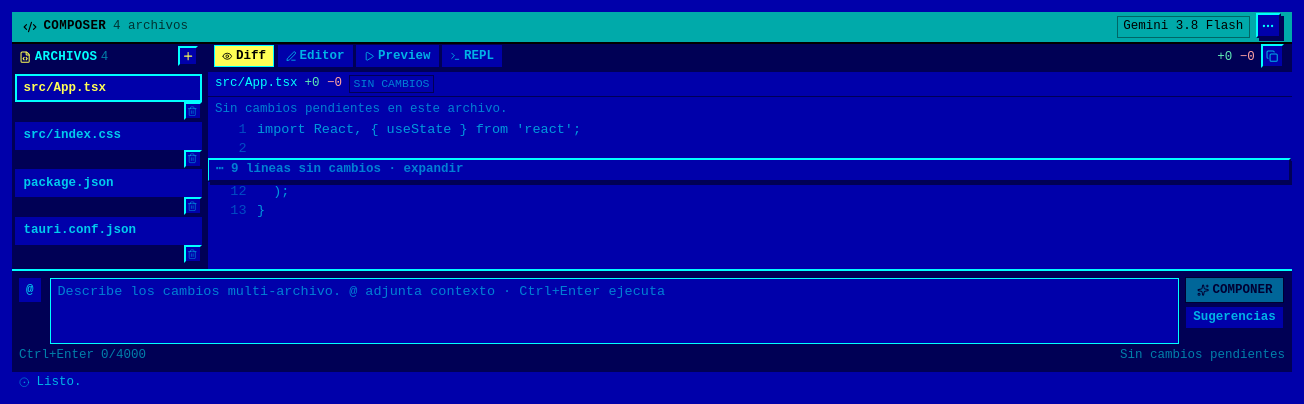
Test: ComposerPlayground › muestra la cabecera fina y los archivos, sin acciones duplicadas
The image size is (1304, 404).
Expected: the text "COMPOSER" is shown, [44,18,106,35]
Expected: the button with test id "composer-file-src/App.tsx" is shown, [14,74,202,102]
Step 1. Click the button with test id "composer-menu" → click(1268, 26), box [1256,13,1280,38]
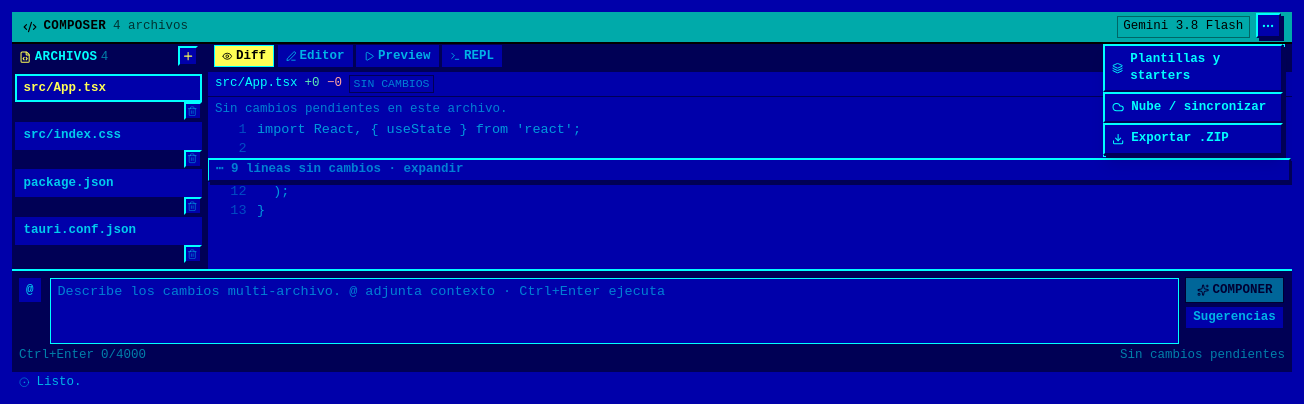
Expected: the button with test id "composer-menu-templates" is shown, [1103,44,1283,92]
